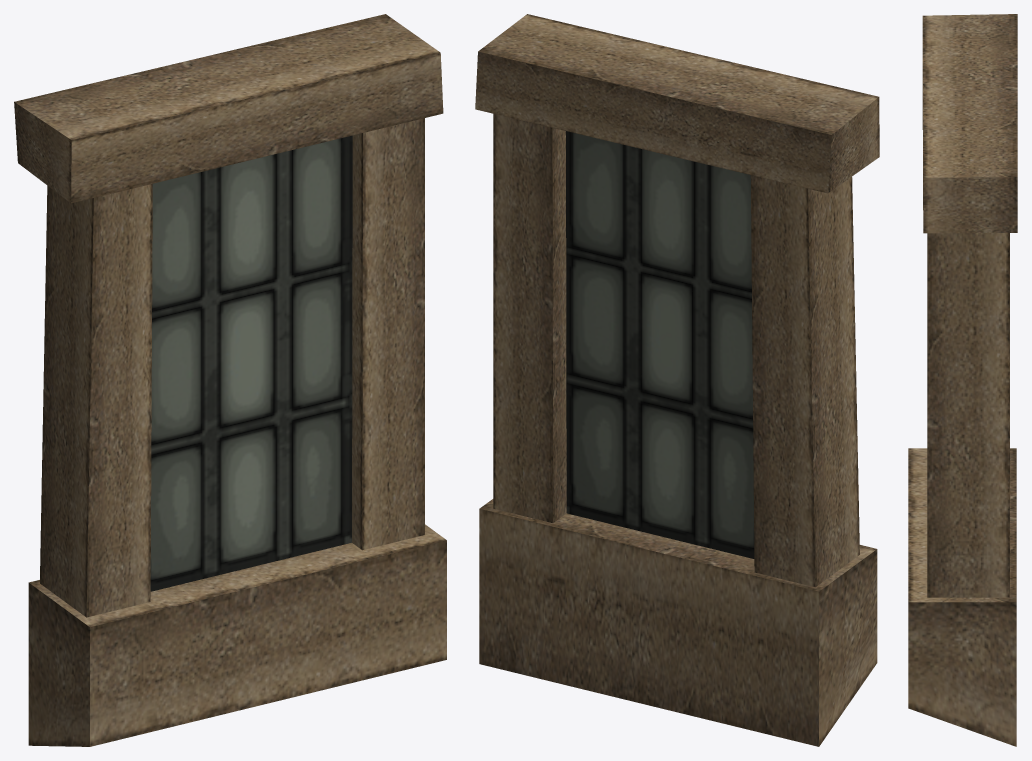
File: Window_09.fbx
3 renders of one model, left to right at view 1: azimuth 30°, elevation 25°; view 2: azimuth 150°, elevation 25°; view 3: azimuth 270°, elevation 25°, orthographic. The views are drawn at different scales.
Parts seen in each view (by area): view 1: Window_09; view 2: Window_09; view 3: Window_09.
Part boxes in pixels (x1,y1,x2,y2): Window_09: (14, 14, 446, 746); Window_09: (475, 14, 879, 746); Window_09: (908, 14, 1017, 746).
Bounding box in the file's own units: 1.47 × 2.42 × 0.4203.
